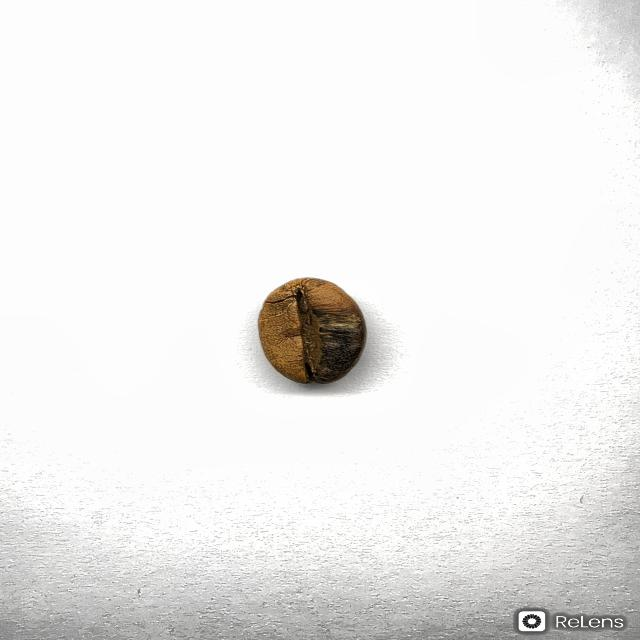Scorched: (258, 277, 367, 384)
